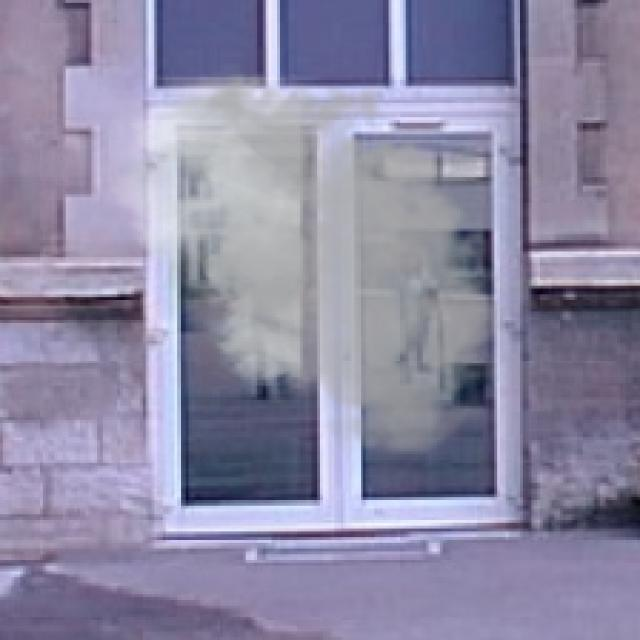smoke: (109, 60, 517, 463)
